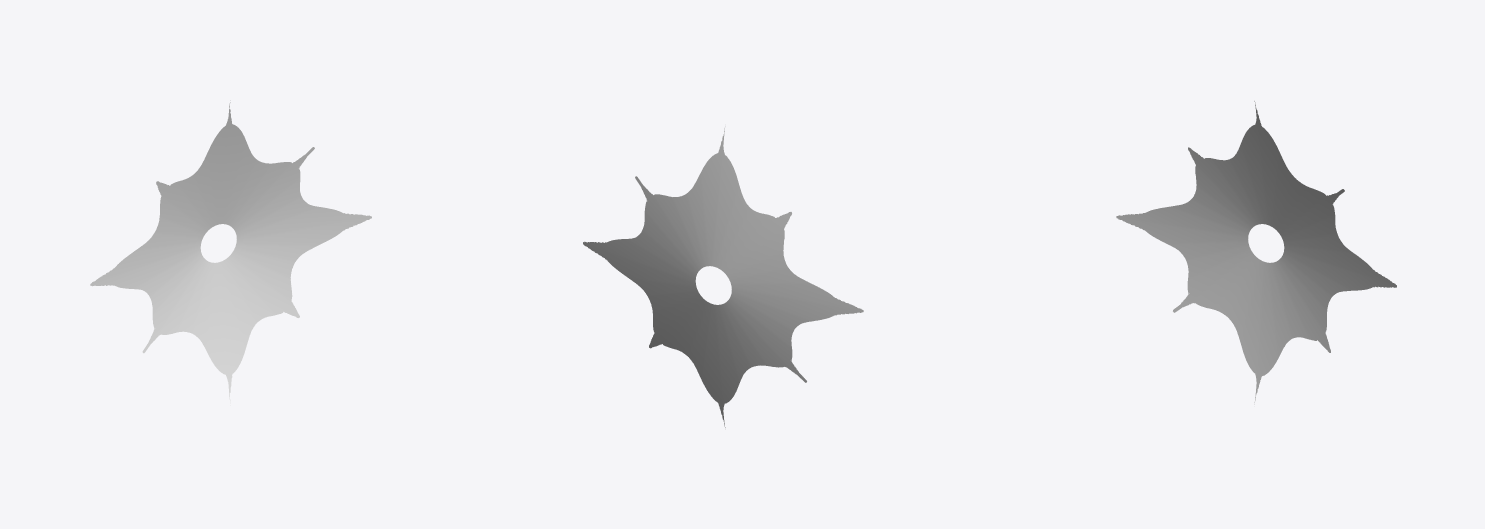
The model's file is Conus.fbx.
3 views of the same model, side by side, from view 1: azimuth 30°, elevation 25°; view 2: azimuth 150°, elevation 25°; view 3: azimuth 330°, elevation 25° (orthographic).
Parts seen in each view (by area): view 1: Circle; view 2: Circle; view 3: Circle.
Part boxes in pixels (x1,y1,x2,y2): Circle: [90, 100, 371, 405]; Circle: [583, 126, 863, 427]; Circle: [1116, 101, 1396, 404].
Size of the model in its own units: 200 by 200 by 21.34.
